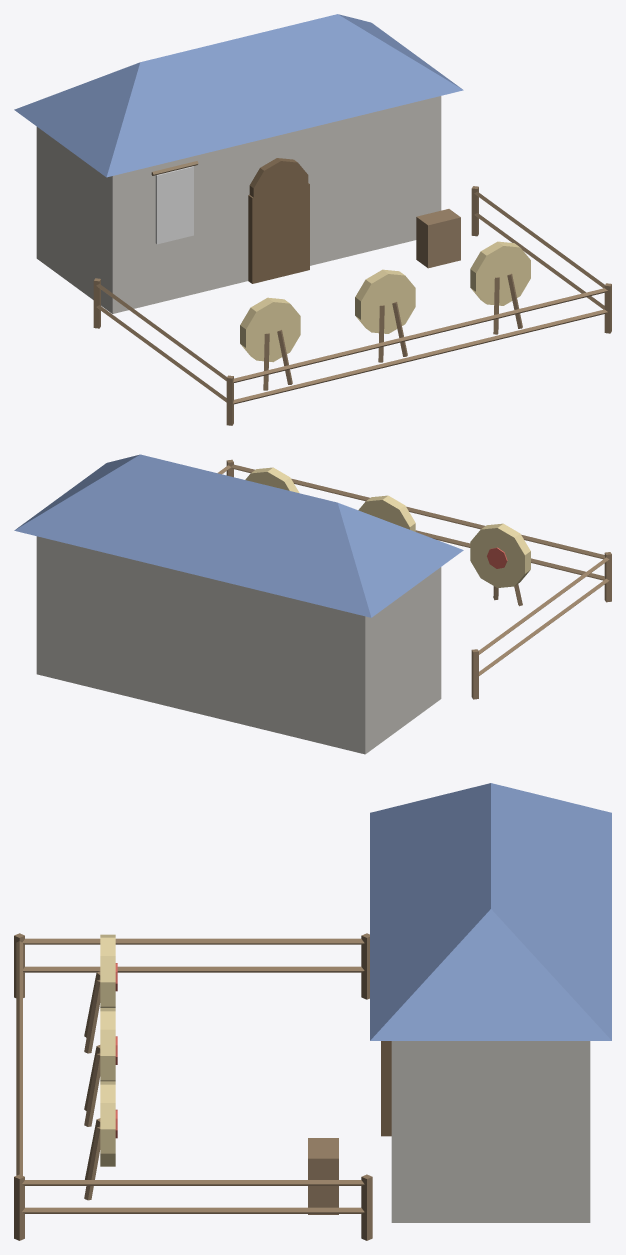
The picture shows the model from 3 angles, top to bottom: view 1: azimuth 30°, elevation 25°; view 2: azimuth 150°, elevation 25°; view 3: azimuth 270°, elevation 25°; orthographic projection. The views are drawn at different scales.
Visible parts, largest first — view 1: body; view 2: body; view 3: body.
Boxes of the visible parts, <box> form: body: <box>14,14,611,425</box>; body: <box>14,454,611,754</box>; body: <box>14,783,611,1240</box>.
Bounding box in the file's own units: 9.38 × 4.85 × 9.64.
